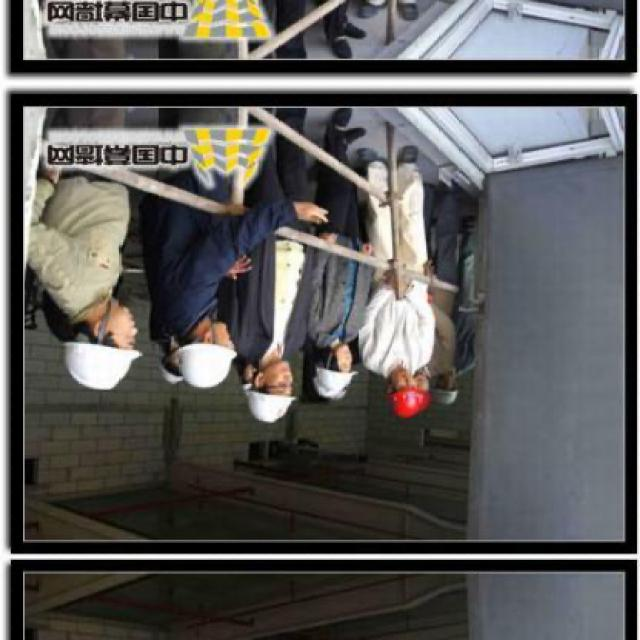con casco: (60, 310, 147, 394), (233, 354, 324, 418), (190, 316, 260, 394), (386, 334, 449, 406), (305, 319, 370, 386)
